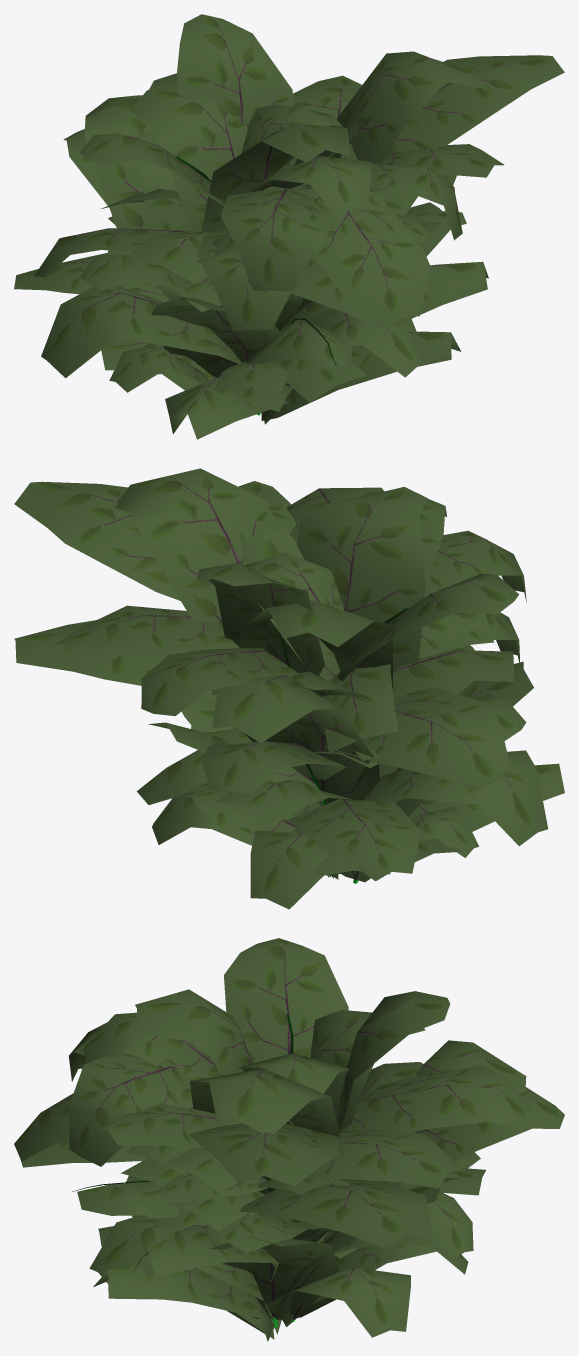
Rendered from PW_Plant_Bush_01_01.fbx.
3 renders of one model, top to bottom at view 1: azimuth 30°, elevation 25°; view 2: azimuth 150°, elevation 25°; view 3: azimuth 270°, elevation 25°, orthographic. The views are drawn at different scales.
Parts seen in each view (by area): view 1: PW_Plants_Bushes_01_LOD0; view 2: PW_Plants_Bushes_01_LOD0; view 3: PW_Plants_Bushes_01_LOD0.
Boxes of the visible parts, x1,y1,x2,y2 form: PW_Plants_Bushes_01_LOD0: (14, 14, 564, 439); PW_Plants_Bushes_01_LOD0: (14, 468, 564, 909); PW_Plants_Bushes_01_LOD0: (14, 938, 564, 1341).
Size of what is drawn, in the model's own units: 206 by 136 by 194.
Materials: 2 (1 with a texture image).
